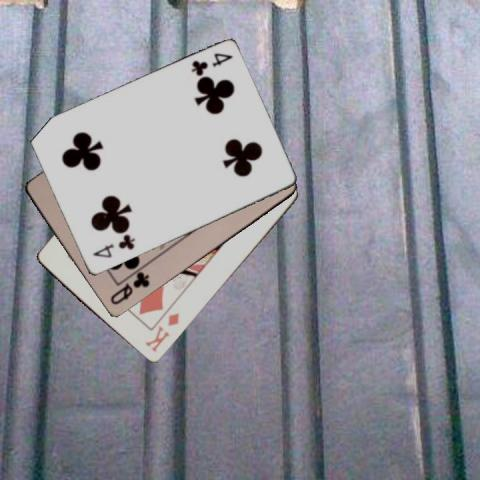4c: (90, 232, 137, 260), (188, 50, 234, 78)
Kd: (142, 310, 181, 354)
Qc: (107, 269, 151, 307)
